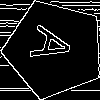A: (29, 24, 84, 69)
